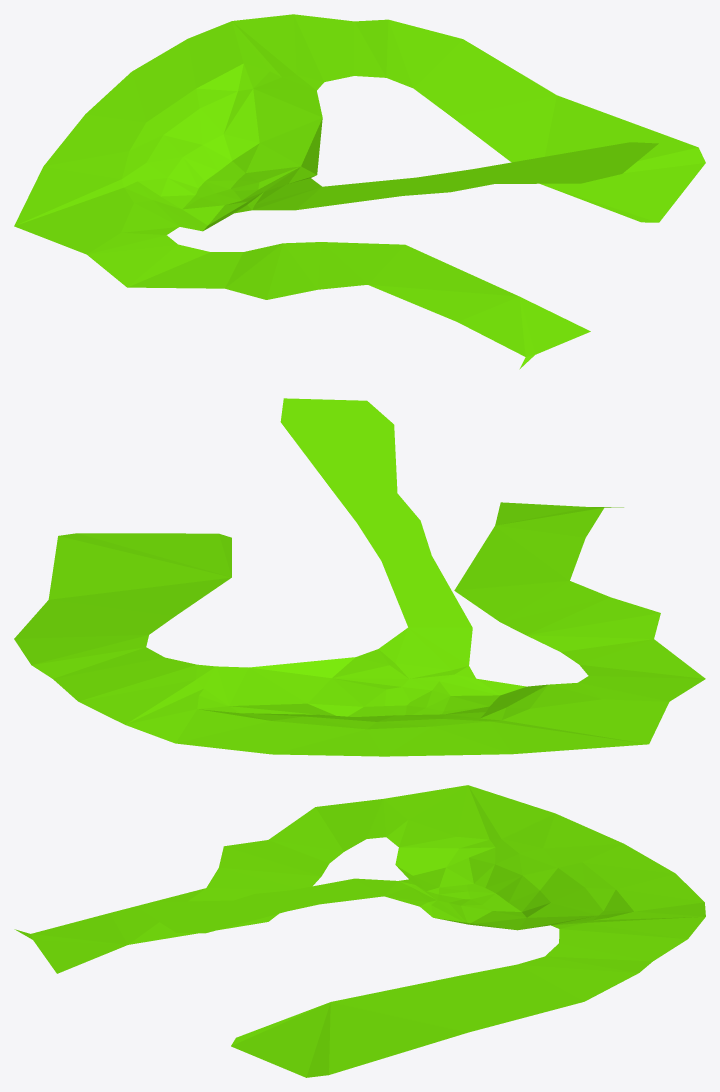
File: caveFloor.fbx
The picture shows the model from 3 angles, top to bottom: view 1: azimuth 30°, elevation 25°; view 2: azimuth 150°, elevation 25°; view 3: azimuth 270°, elevation 25°; orthographic projection. The views are drawn at different scales.
Visible parts, largest first — view 1: Mesh1; view 2: Mesh1; view 3: Mesh1.
Part boxes in pixels (x1,y1,x2,y2): Mesh1: [14, 14, 705, 369]; Mesh1: [14, 398, 705, 756]; Mesh1: [14, 785, 705, 1077].
Size of the model in its own units: 335 by 57.13 by 355.
